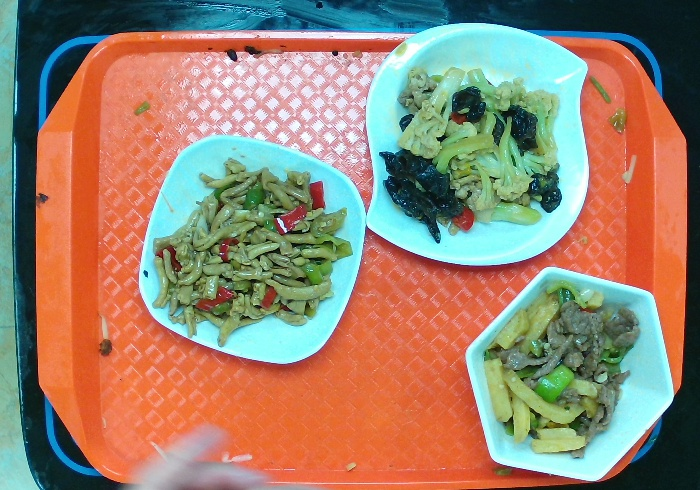RJxy-Liu_Jiao_Wan: (458, 257, 678, 483)
RJxy-Shuang_Jiao_Pan: (362, 19, 597, 279)
RJxy-Si_Fang_Wan: (134, 129, 370, 363)
